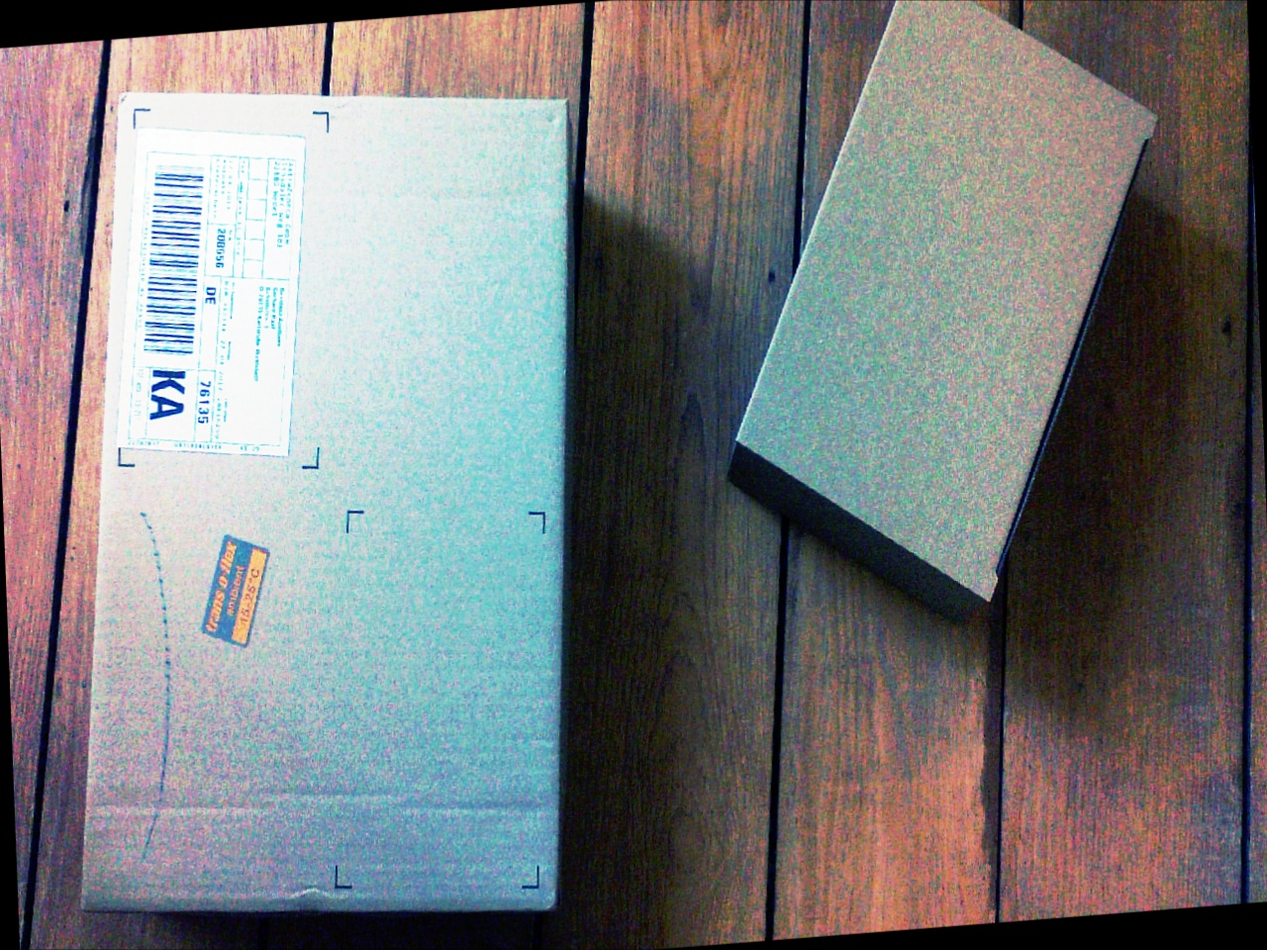good-parcel: (86, 74, 570, 930), (712, 0, 1165, 652)
